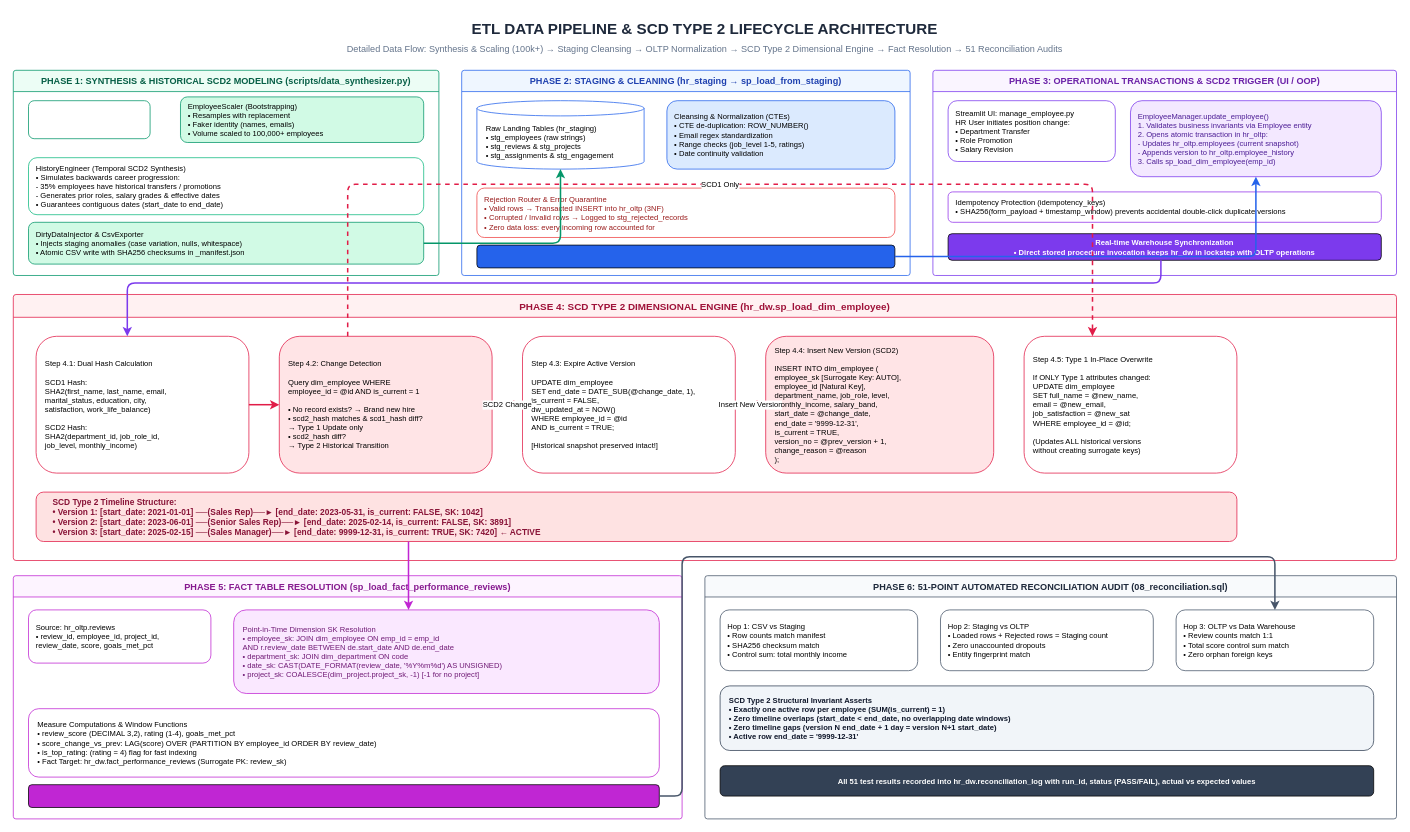
This 1410x832 diagram has some shape labels left out. Each missing label, with the centre of its shape:
"IBM HR Dataset (1,470 rows snapshot)" belongs at point 89,119.
"Idempotent: INSERT INTO ... ON DUPLICATE KEY UPDATE / NOT EXISTS check" belongs at point 343,796.
"Target: hr_oltp (3NF Master Tables & employee_history)" belongs at point 685,256.
